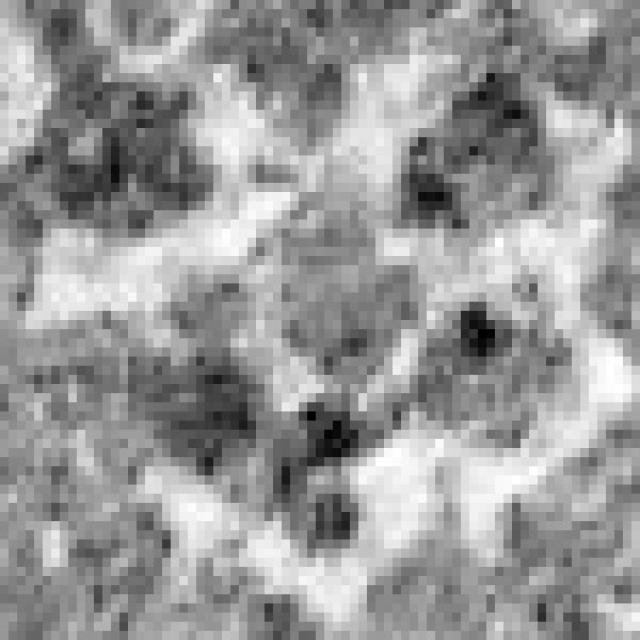inner: (251, 160, 427, 396)
lobe: (185, 0, 418, 154), (127, 272, 275, 511), (35, 72, 217, 240), (401, 65, 561, 232), (418, 281, 577, 446), (256, 395, 396, 558)
outer: (0, 0, 640, 640)
